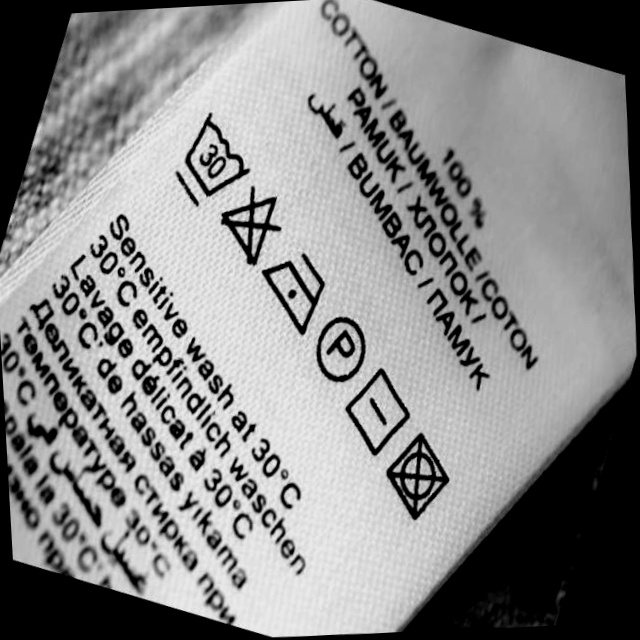30C: (170, 112, 252, 207)
DN_bleach: (217, 187, 283, 267)
DN_tumble_dry: (383, 434, 452, 518)
dry_clean_any_solvent_except_trichloroethylene: (309, 312, 375, 386)
dry_flat: (339, 368, 412, 453)
iron_low: (254, 250, 328, 338)
